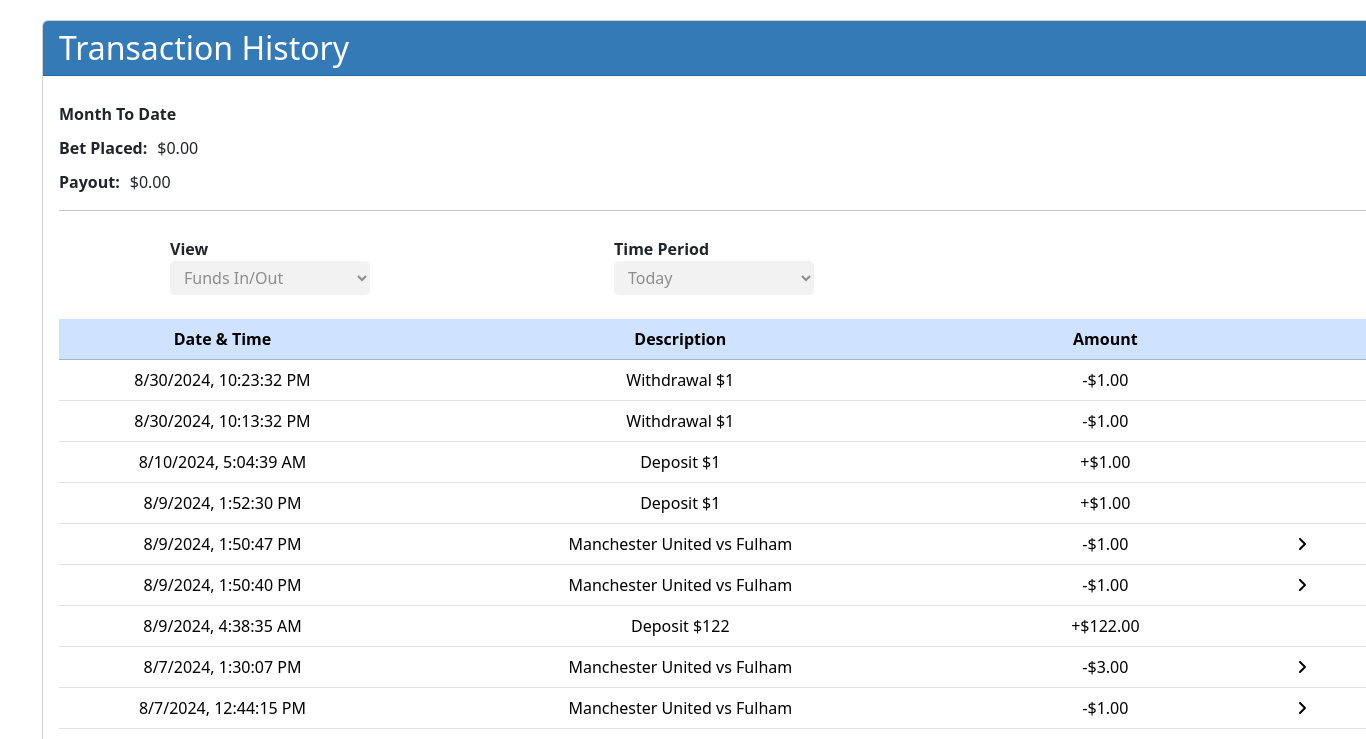
Test: TrxHist Component › should show bet details in bet transaction history when user clicks show details icon in transaction history table
Click the picture named "Show Trx Details" in the row of "8/9/2024, 1:50:47 PM" at (1302, 544), box [1297,536,1307,552]
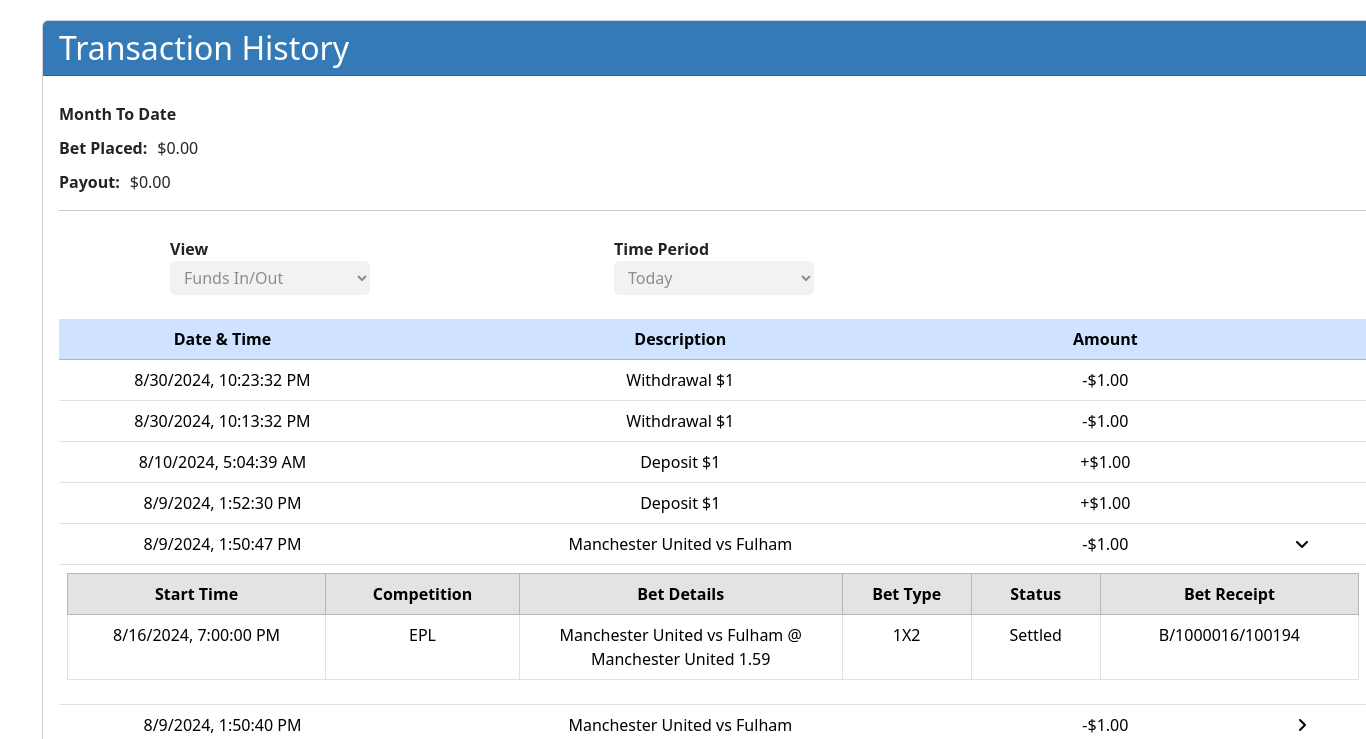
expect the text "Manchester United vs Fulham @ Manchester United 1.59" is shown: met, box [519,615,842,680]
expect the text "B/1000016/100194" is shown: met, box [1100,615,1358,680]
